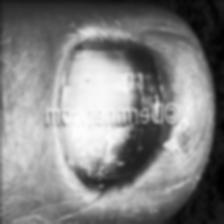Toxin: (62, 38, 166, 104), (56, 124, 162, 187)
